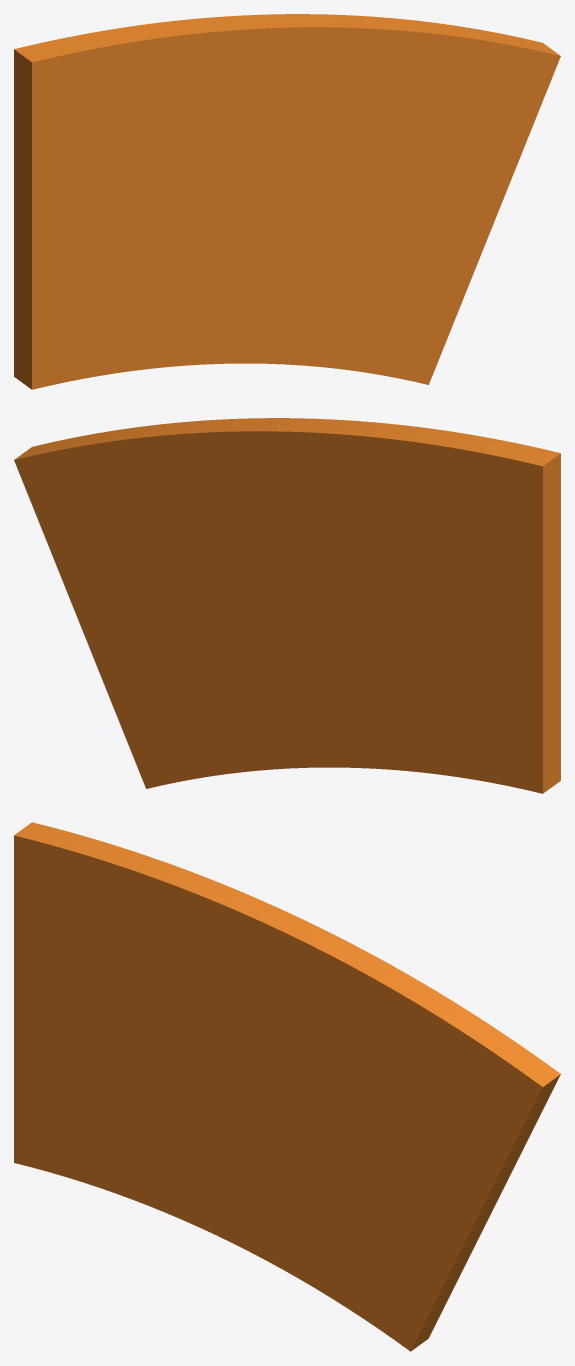
File: universal_joint_pressure.glb
The picture shows the model from 3 angles, top to bottom: view 1: azimuth 30°, elevation 25°; view 2: azimuth 150°, elevation 25°; view 3: azimuth 330°, elevation 25°; orthographic projection.
Visible parts, largest first — view 1: pressure__front, pressure__back; view 2: pressure__back, pressure__front; view 3: pressure__front, pressure__back.
Boxes of the visible parts, x1,y1,x2,y2 form: pressure__front: (23, 20, 560, 389); pressure__back: (14, 14, 551, 382); pressure__back: (14, 424, 551, 793); pressure__front: (23, 418, 560, 786); pressure__front: (14, 829, 551, 1351); pressure__back: (23, 822, 560, 1344).
Bounding box in the file's own units: 0.1014 × 0.0769 × 0.006.
